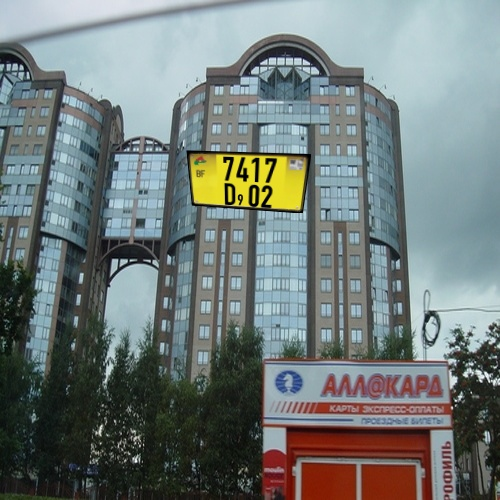plate: (178, 122, 335, 231)
